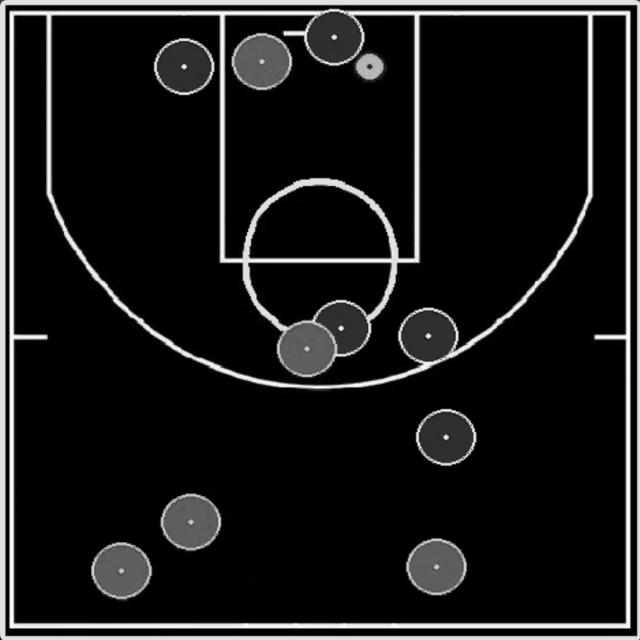Basketball: (354, 51, 387, 82)
Team_A: (398, 308, 459, 365), (416, 409, 476, 466), (154, 39, 214, 95), (305, 10, 364, 65), (314, 300, 371, 356)
Team_B: (92, 542, 152, 600), (277, 321, 337, 378), (161, 494, 221, 551), (406, 539, 467, 595), (231, 34, 291, 90)
